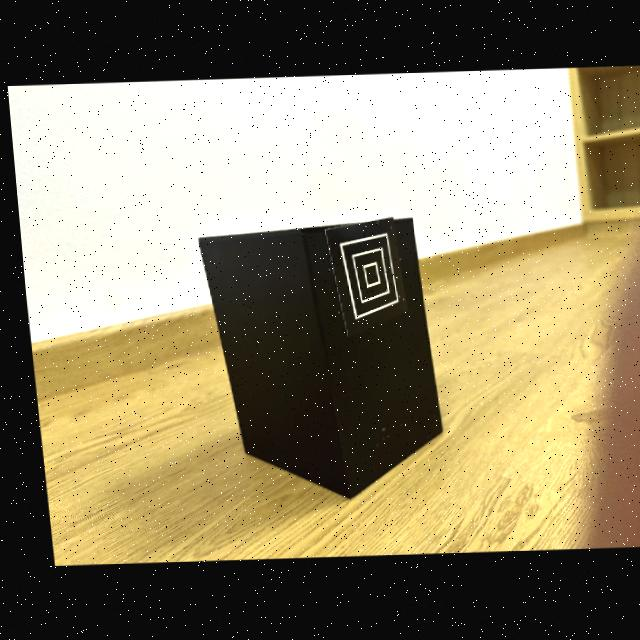BULLSEYE: (321, 217, 403, 340)
